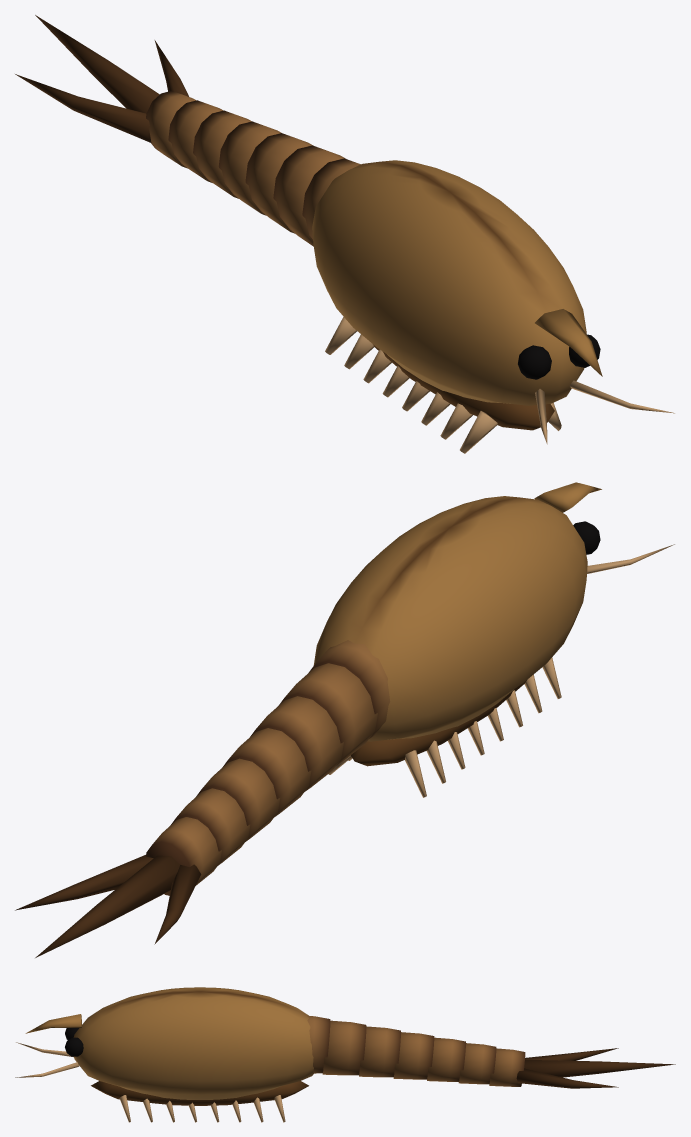
The model's file is CeratiocarisPapilio.fbx.
3 views of the same model, one above another, from view 1: azimuth 30°, elevation 25°; view 2: azimuth 150°, elevation 25°; view 3: azimuth 270°, elevation 25° (orthographic). The views are drawn at different scales.
Parts seen in each view (by area): view 1: CeratiocarisPapilio; view 2: CeratiocarisPapilio; view 3: CeratiocarisPapilio.
Part boxes in pixels (left/top/right/bottom): CeratiocarisPapilio: left=15, top=15, right=674, bottom=453; CeratiocarisPapilio: left=15, top=482, right=674, bottom=957; CeratiocarisPapilio: left=15, top=987, right=675, bottom=1122.
Size of the model in its own units: 0.3 by 0.3634 by 1.85.
